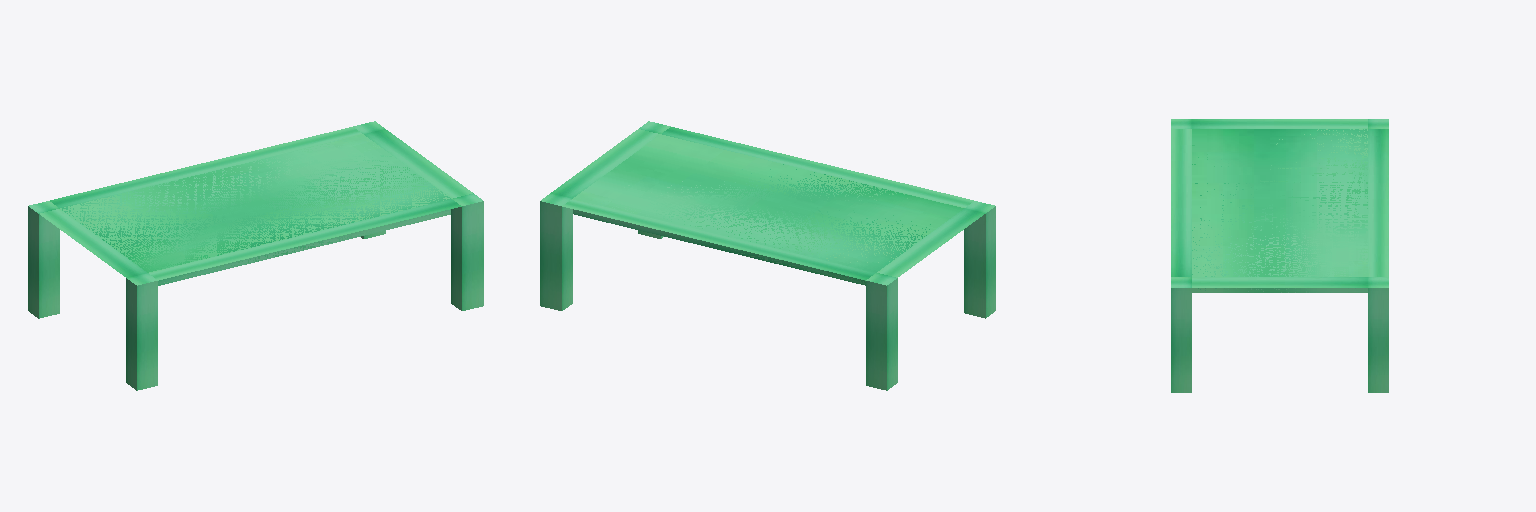
The picture shows the model from 3 angles: view 1: azimuth 30°, elevation 25°; view 2: azimuth 150°, elevation 25°; view 3: azimuth 270°, elevation 25°; orthographic projection.
Parts seen in each view (by area): view 1: Cube_cube; view 2: Cube_cube; view 3: Cube_cube.
Boxes of the visible parts, x1,y1,x2,y2 form: Cube_cube: [28, 121, 483, 390]; Cube_cube: [540, 121, 995, 390]; Cube_cube: [1171, 119, 1388, 392].
Bounding box in the file's own units: 133 × 38.5 × 72.48.
Materials: 1 (1 with a texture image).